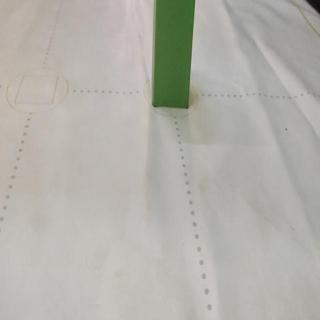greenbox: (151, 1, 198, 109)
